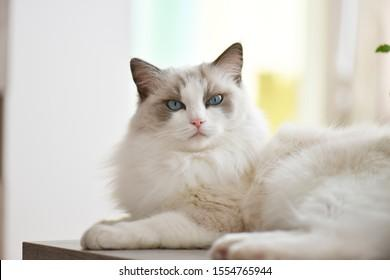ragdoll: (115, 26, 259, 176)
